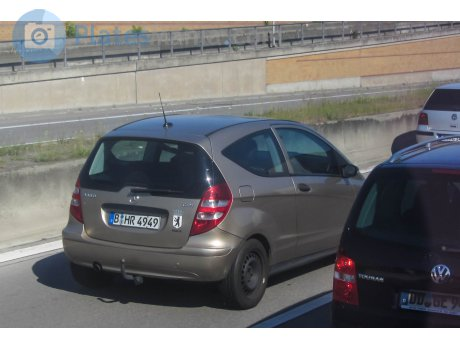License Plates: (114, 210, 157, 223)
